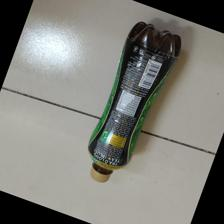Olong: (89, 21, 180, 185)
